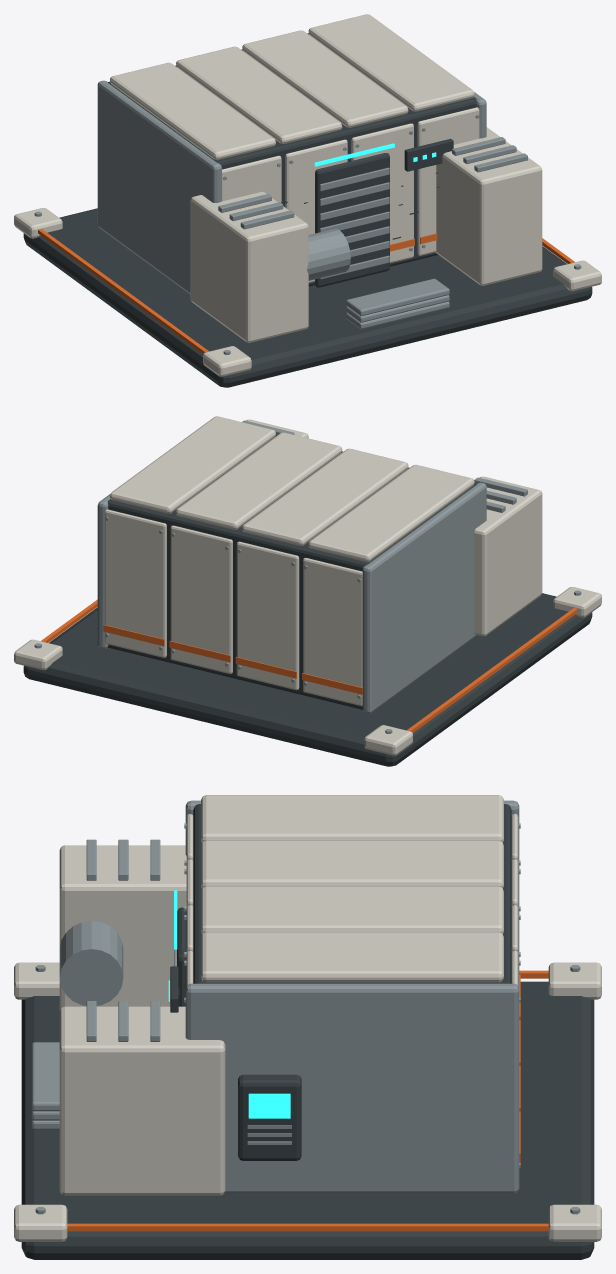
The model's file is SM_MachineShop_Body.002.fbx.
3 views of the same model, one above another, from view 1: azimuth 30°, elevation 25°; view 2: azimuth 150°, elevation 25°; view 3: azimuth 270°, elevation 25° (orthographic). The views are drawn at different scales.
Parts seen in each view (by area): view 1: SM_MachineShop_Body.002; view 2: SM_MachineShop_Body.002; view 3: SM_MachineShop_Body.002.
Boxes of the visible parts, x1,y1,x2,y2 form: SM_MachineShop_Body.002: [14, 14, 601, 387]; SM_MachineShop_Body.002: [14, 416, 601, 766]; SM_MachineShop_Body.002: [14, 795, 601, 1259].
Size of the model in its own units: 492 by 462 by 219.
